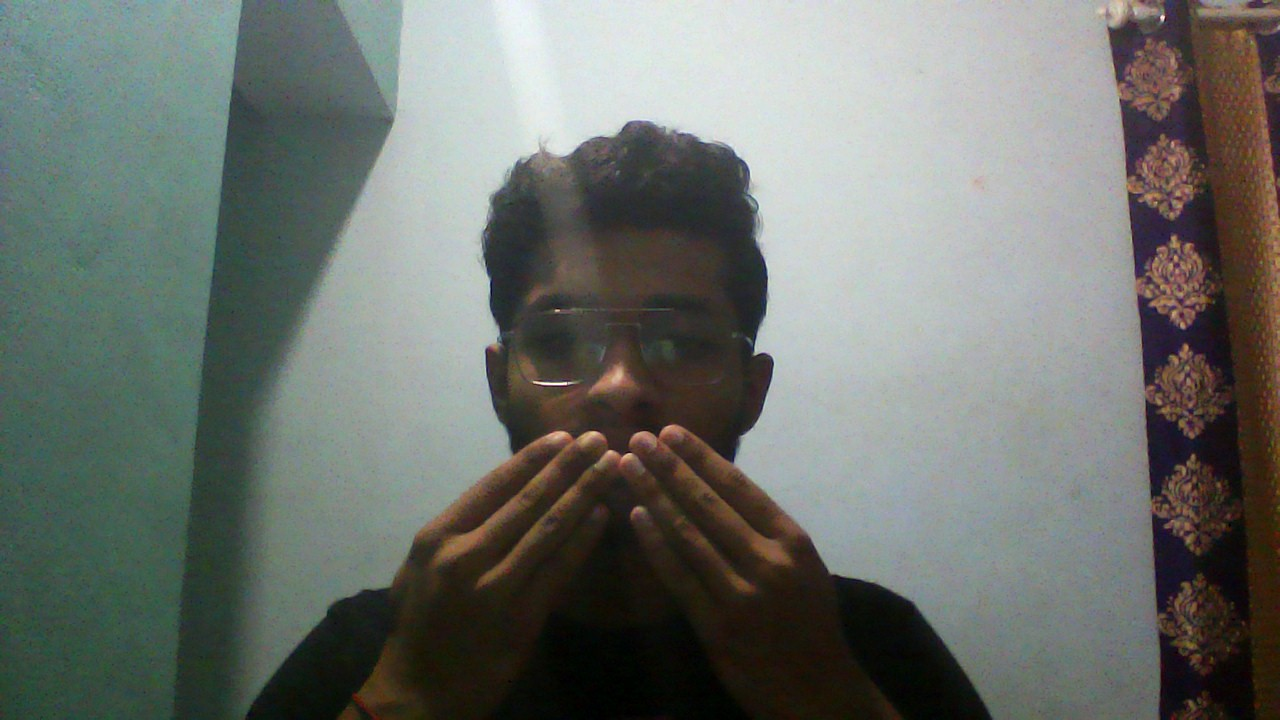Thanks: (348, 417, 874, 720)
